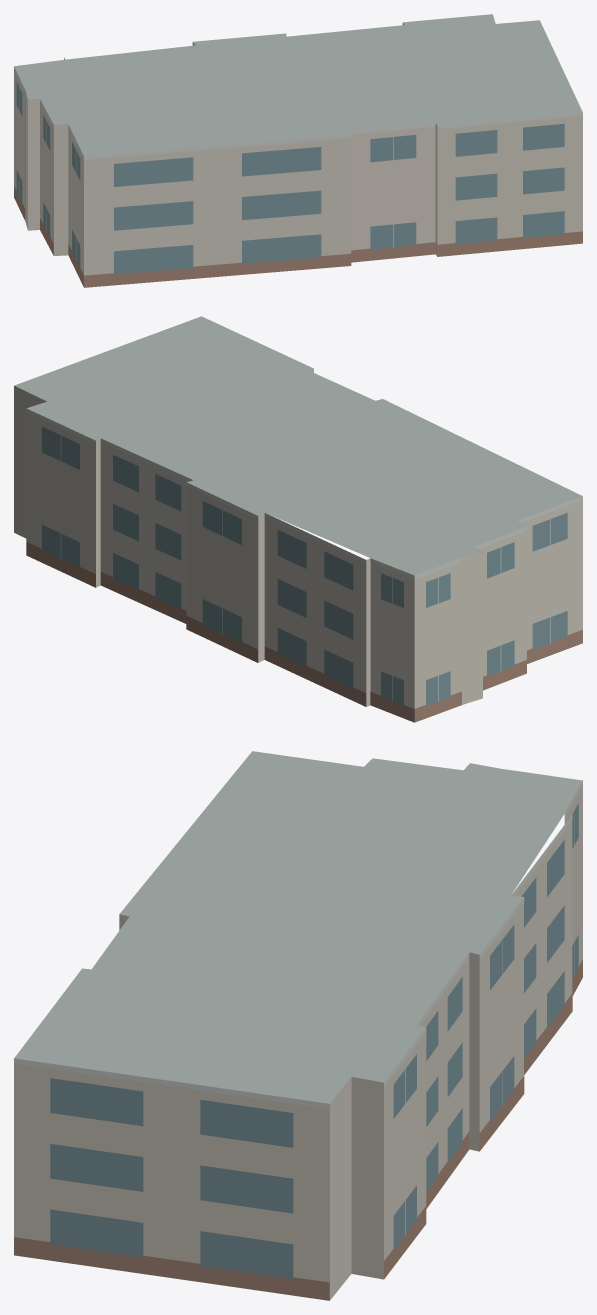
File: survey-upis-32896752.glb
3 renders of one model, top to bottom at view 1: azimuth 30°, elevation 25°; view 2: azimuth 150°, elevation 25°; view 3: azimuth 270°, elevation 25°, orthographic. The views are drawn at different scales.
Visible parts, largest first — view 1: survey-upis-32896752.tmp; view 2: survey-upis-32896752.tmp; view 3: survey-upis-32896752.tmp.
Part boxes in pixels (<box>): survey-upis-32896752.tmp: <box>14,14,582,287</box>; survey-upis-32896752.tmp: <box>14,316,582,722</box>; survey-upis-32896752.tmp: <box>14,751,582,1300</box>.
Size of the model in its own units: 35.15 by 9.15 by 23.95.
